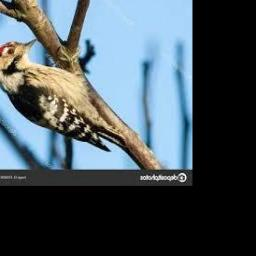Woodpecker: (0, 39, 127, 152)
